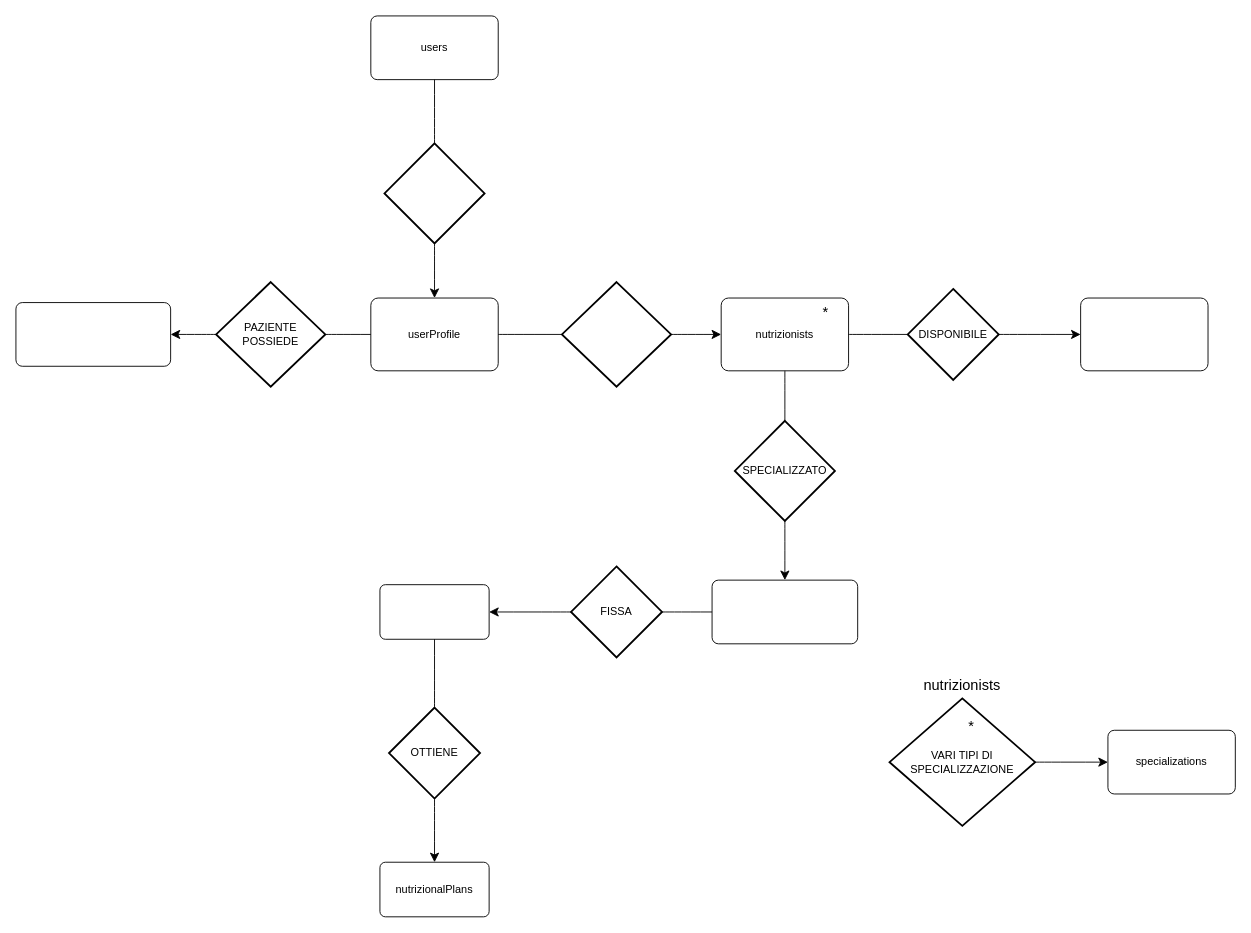
This 1251x933 diagram has some shape labels left out. The centre of each missing label's shape, as x and y in pixels:
"appointments" goes at point 434,611.
"DATI NUTRIZIONISTA" goes at point 616,334.
"nutrizionistSpecialization" goes at point 784,611.
"patientHealthData" goes at point 93,334.
"SI REGISTRA" goes at point 434,193.
"workSchedules" goes at point 1144,334.
